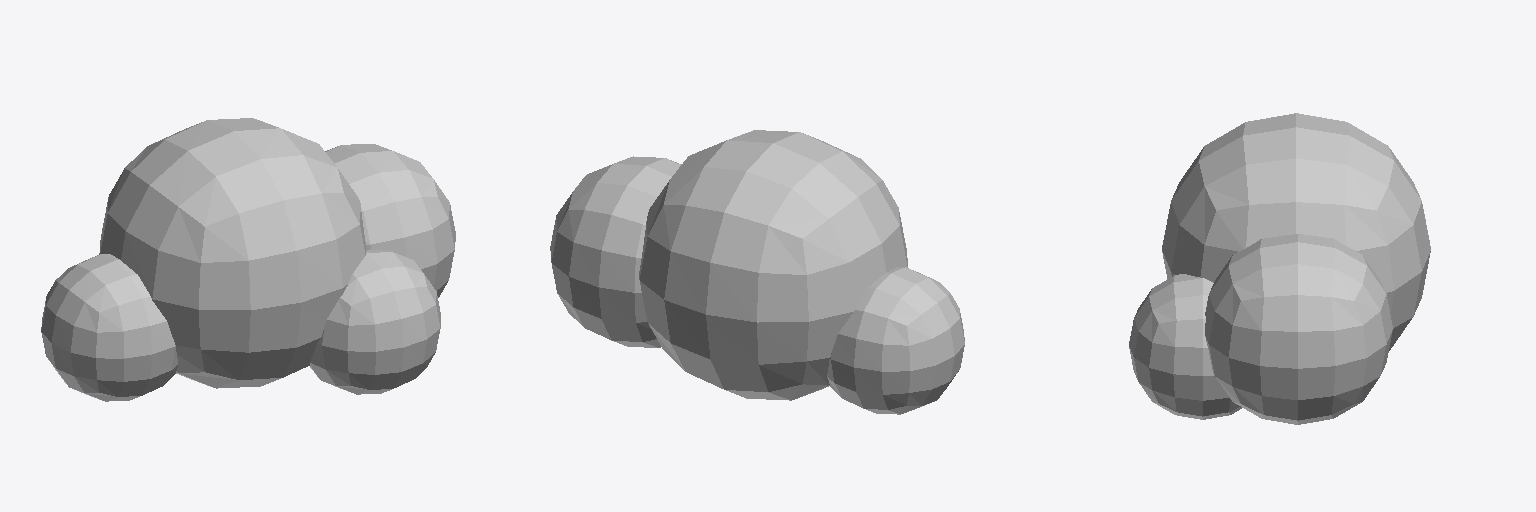
The model's file is cloud3.obj.
3 views of the same model, side by side, from view 1: azimuth 30°, elevation 25°; view 2: azimuth 150°, elevation 25°; view 3: azimuth 270°, elevation 25° (orthographic).
Visible parts, largest first — view 1: cloud3; view 2: cloud3; view 3: cloud3.
Part boxes in pixels (x1,y1,x2,y2): cloud3: (41, 118, 455, 401); cloud3: (550, 130, 964, 414); cloud3: (1129, 113, 1430, 424).
Size of the model in its own units: 3.36 by 2 by 2.25.